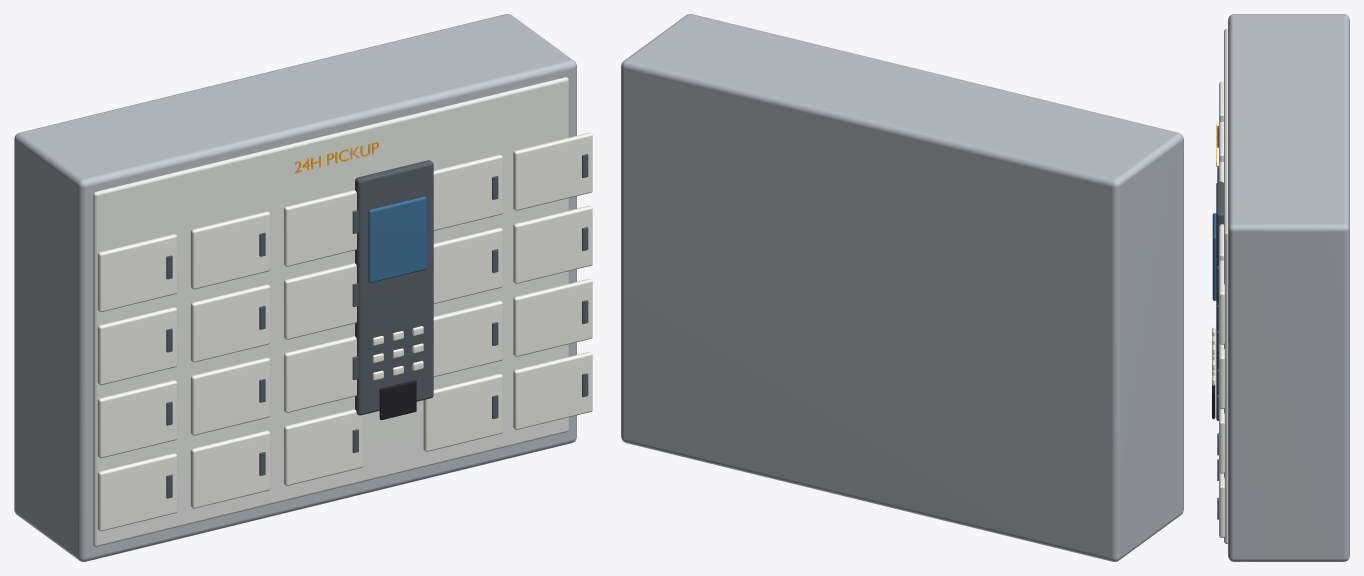
The model's file is locker.glb.
3 renders of one model, left to right at view 1: azimuth 30°, elevation 25°; view 2: azimuth 150°, elevation 25°; view 3: azimuth 270°, elevation 25°, orthographic. The views are drawn at different scales.
Visible parts, largest first — view 1: locker outer shell, locker recessed front, central screen column, individual locker door, individual locker door.004, individual locker door.007, individual locker door.001, individual locker door.006, individual locker door.005, individual locker door.002, individual locker door.003, individual locker door.018 (+13 smaller); view 2: locker outer shell; view 3: locker outer shell, locker recessed front, central screen column, individual locker door.019, touch screen, individual locker door.018, individual locker door.016, individual locker door.017, individual locker door.003, individual locker door.007.
Boxes of the visible parts, left/top/right/bottom form: locker outer shell: left=14, top=14, right=576, bottom=561; locker recessed front: left=92, top=77, right=568, bottom=546; central screen column: left=355, top=160, right=433, bottom=415; individual locker door: left=97, top=453, right=177, bottom=531; individual locker door.004: left=190, top=430, right=270, bottom=508; individual locker door.007: left=190, top=211, right=270, bottom=289; individual locker door.001: left=97, top=380, right=177, bottom=458; individual locker door.006: left=190, top=284, right=270, bottom=362; individual locker door.005: left=190, top=357, right=270, bottom=435; individual locker door.002: left=97, top=307, right=177, bottom=385; individual locker door.003: left=97, top=234, right=177, bottom=311; individual locker door.018: left=513, top=205, right=592, bottom=283; locker outer shell: left=621, top=14, right=1183, bottom=561; locker outer shell: left=1228, top=14, right=1349, bottom=561; locker recessed front: left=1224, top=29, right=1227, bottom=543; central screen column: left=1216, top=181, right=1223, bottom=420; individual locker door.019: left=1219, top=260, right=1224, bottom=344; touch screen: left=1212, top=213, right=1216, bottom=300; individual locker door.018: left=1219, top=343, right=1224, bottom=408; individual locker door.016: left=1219, top=472, right=1224, bottom=537; individual locker door.017: left=1219, top=407, right=1224, bottom=473; individual locker door.003: left=1219, top=81, right=1223, bottom=123; individual locker door.007: left=1219, top=121, right=1223, bottom=163.
Size of the model in its own units: 3.06 by 2.2 by 0.814.
